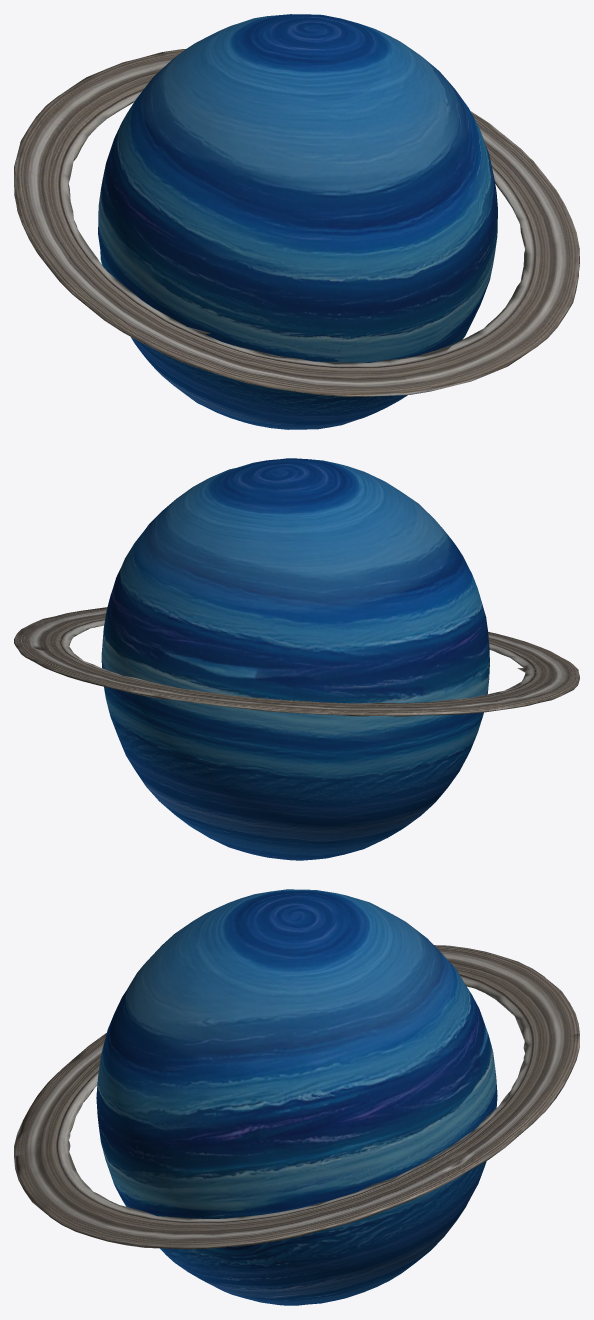
The model's file is planet.glb.
3 renders of one model, top to bottom at view 1: azimuth 30°, elevation 25°; view 2: azimuth 150°, elevation 25°; view 3: azimuth 270°, elevation 25°, orthographic. The views are drawn at different scales.
Visible parts, largest first — view 1: tripo_node_1d28c526-2065-414b-b2fd-014dae253ca7; view 2: tripo_node_1d28c526-2065-414b-b2fd-014dae253ca7; view 3: tripo_node_1d28c526-2065-414b-b2fd-014dae253ca7.
Part boxes in pixels (x1,y1,x2,y2): tripo_node_1d28c526-2065-414b-b2fd-014dae253ca7: [14, 14, 579, 429]; tripo_node_1d28c526-2065-414b-b2fd-014dae253ca7: [14, 458, 579, 860]; tripo_node_1d28c526-2065-414b-b2fd-014dae253ca7: [14, 889, 579, 1305].
Size of the model in its own units: 0.998 by 0.7246 by 0.9785.
1 material, 1 textured.
